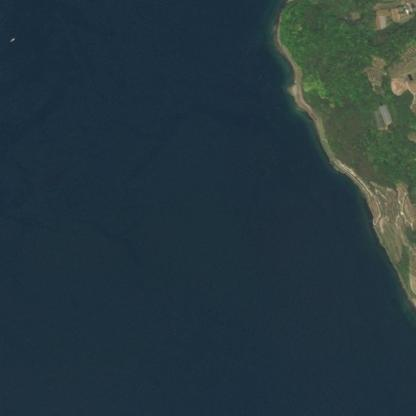ship: (6, 31, 18, 45)
